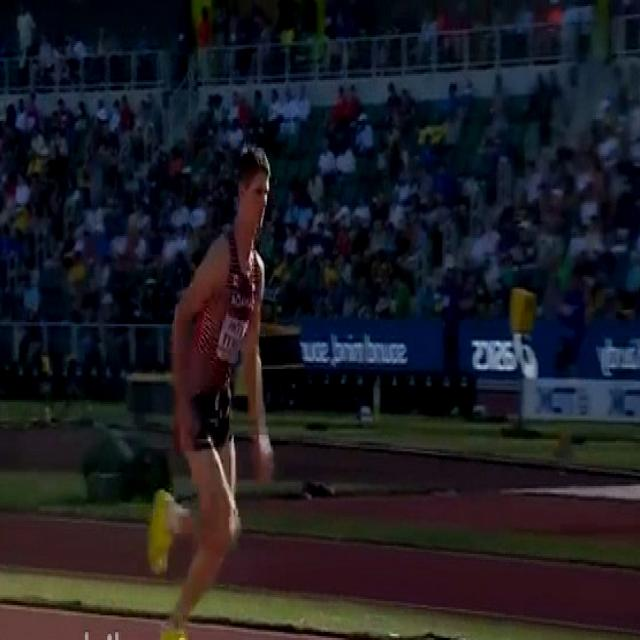run: (150, 135, 270, 640)
